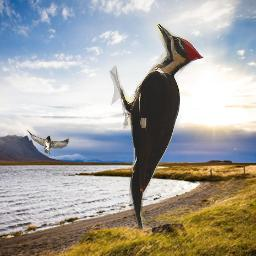Swallow: (26, 129, 70, 155)
Woodpecker: (109, 23, 204, 230)
